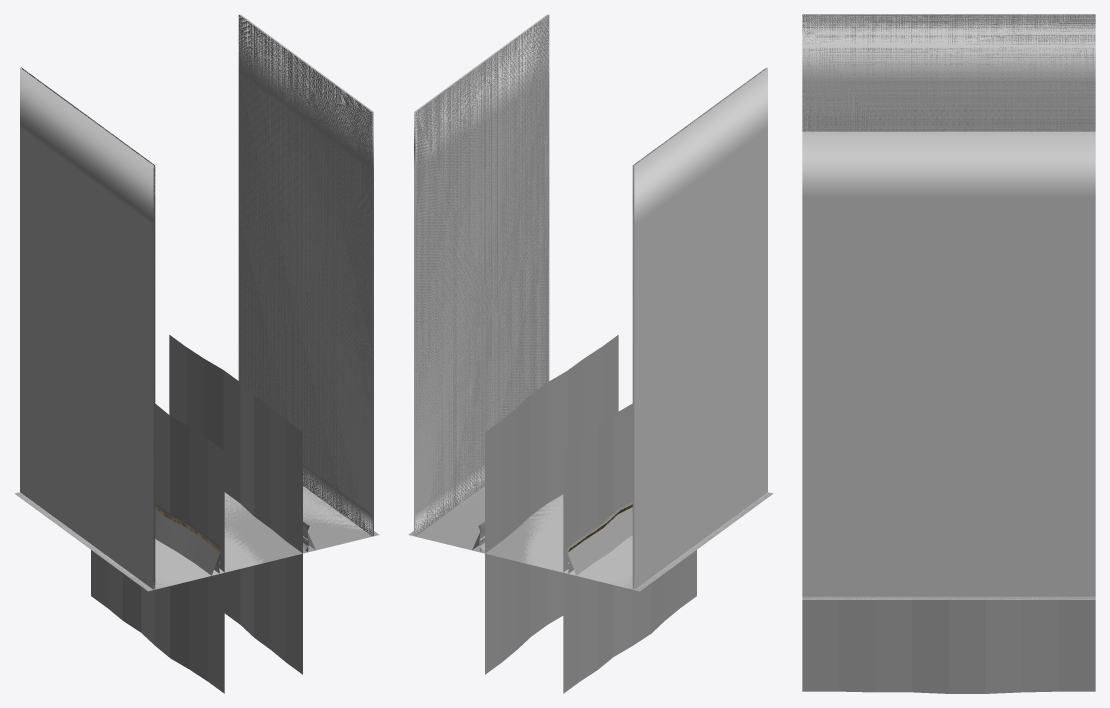
The model's file is road1.fbx.
3 views of the same model, side by side, from view 1: azimuth 30°, elevation 25°; view 2: azimuth 150°, elevation 25°; view 3: azimuth 270°, elevation 25° (orthographic). The views are drawn at different scales.
Parts seen in each view (by area): view 1: mdl_LOD0, col_o, col_w, mdl2_LOD0; view 2: mdl_LOD0, col_o, col_w, mdl2_LOD0; view 3: mdl_LOD0, mdl2_LOD0, col_w, col_o.
Part boxes in pixels (x1,y1,x2,y2): mdl_LOD0: (15,76,378,591); col_o: (14,15,379,590); col_w: (91,335,302,693); mdl2_LOD0: (20,14,373,551); mdl_LOD0: (412,76,772,591); col_o: (408,14,773,590); col_w: (485,335,696,693); mdl2_LOD0: (414,14,767,552); mdl_LOD0: (802,81,1095,599); mdl2_LOD0: (802,14,1095,197); col_w: (802,600,1095,693); col_o: (802,14,1095,599).
Size of what is drawn, in the model's own units: 1600 by 3600 by 1600.
